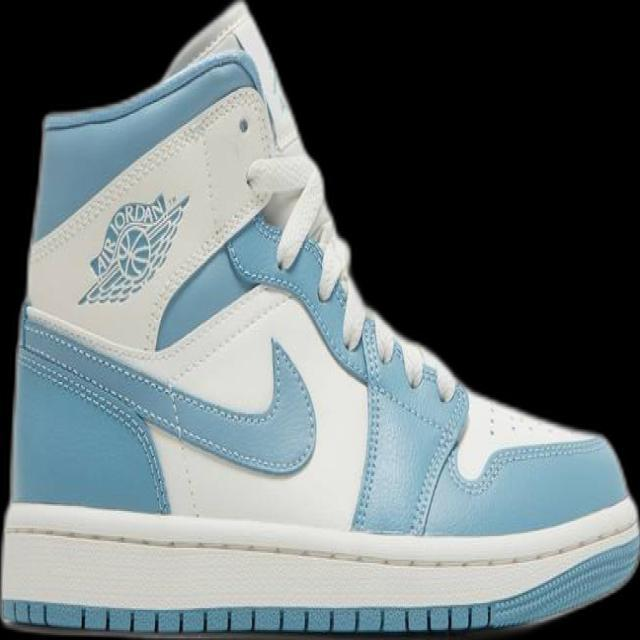J1_InsoleChar: (0, 0, 639, 639)
J1_ShoeLogo: (76, 190, 190, 306)
J1_StitchPattern: (18, 215, 603, 519), (0, 505, 638, 635), (16, 315, 318, 479), (225, 216, 460, 403), (16, 328, 173, 513), (350, 310, 468, 535), (0, 599, 496, 635), (450, 433, 608, 499)
